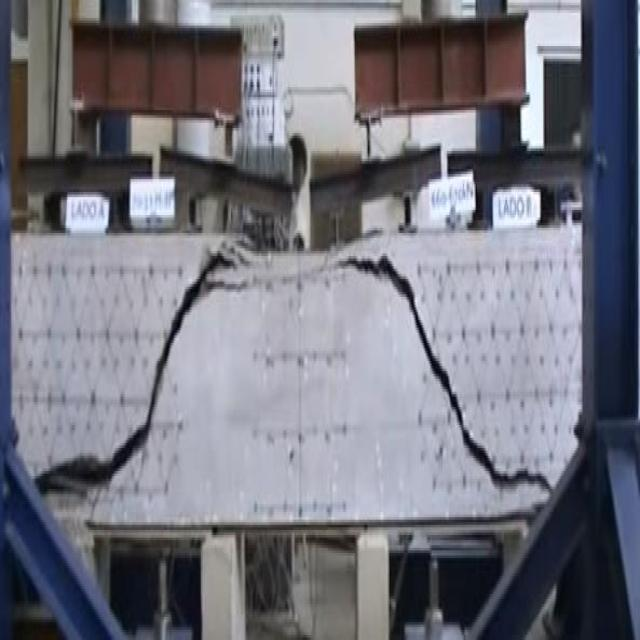crack: (33, 238, 550, 520)
